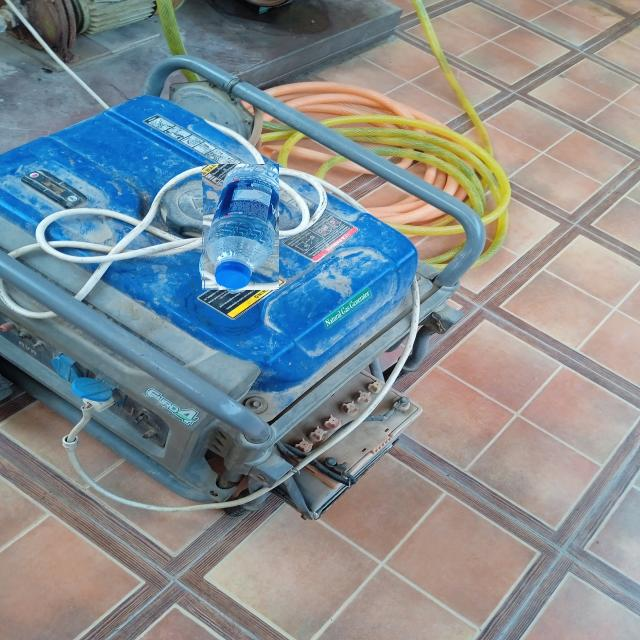Plastic: (201, 164, 279, 290)
